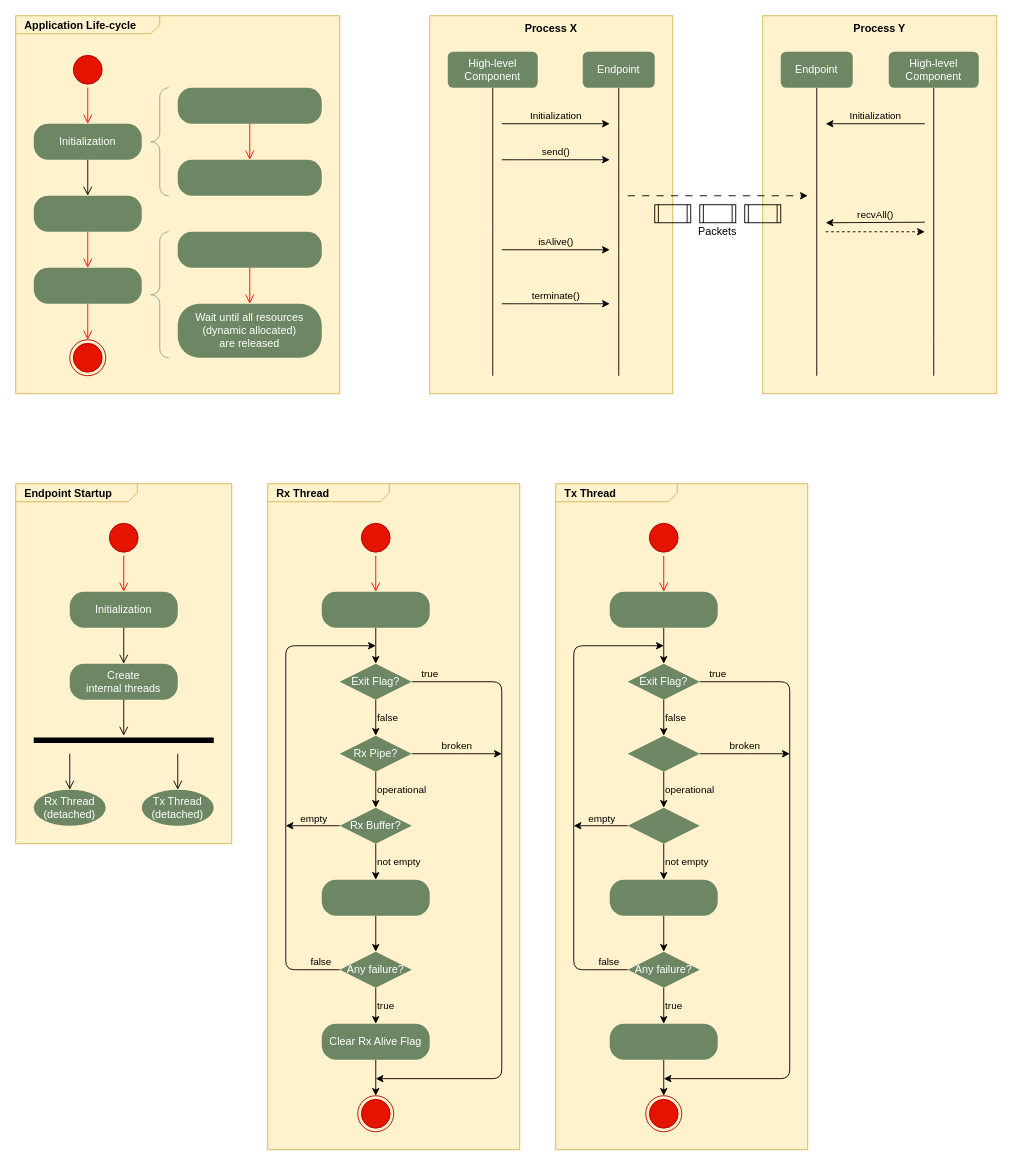
The diagram is 1013 pixels wide and 1166 high, and some of its shapes have lost their labels. Here are the shapes that lost their labels. From the top down, the centre of each, then its label:
(x=249, y=105): Resource allocation
(x=249, y=177): Connection setup
(x=87, y=213): Communicate
(x=249, y=249): Request termination
(x=87, y=285): Finalization
(x=375, y=609): Set Rx Alive Flag
(x=663, y=609): Set Tx Alive Flag
(x=663, y=753): Tx Pipe?
(x=663, y=825): Tx Buffer?
(x=375, y=897): Decode
(x=663, y=897): Transmit
(x=663, y=1041): Clear Tx Alive Flag
